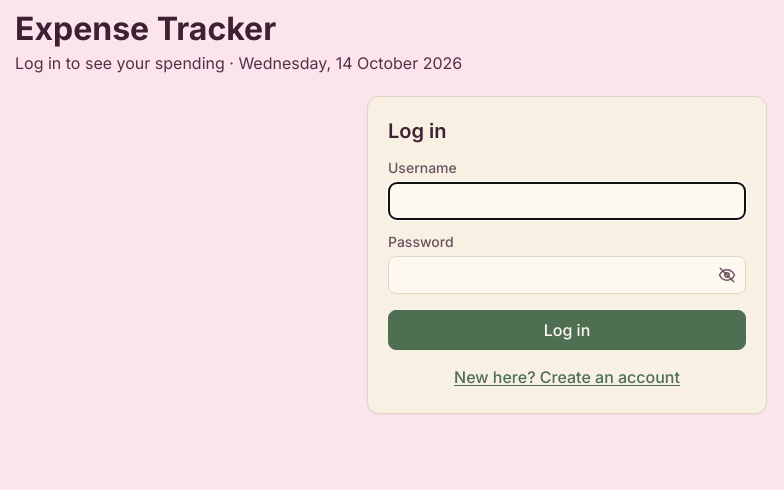
it: switching between Log in and Create account hides the password again, keeping it
Type "a good password" into the password field labelled "Password" at (567, 275), box [388, 256, 746, 294]
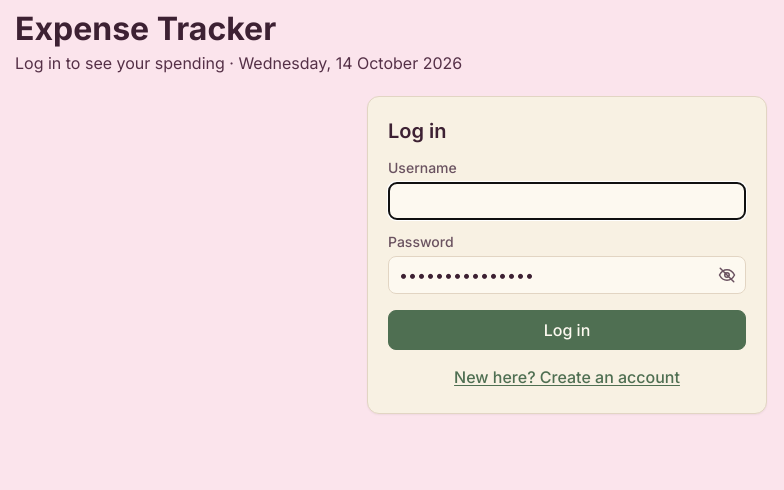
Click the button named "Show password" at (727, 275), box [711, 259, 743, 291]
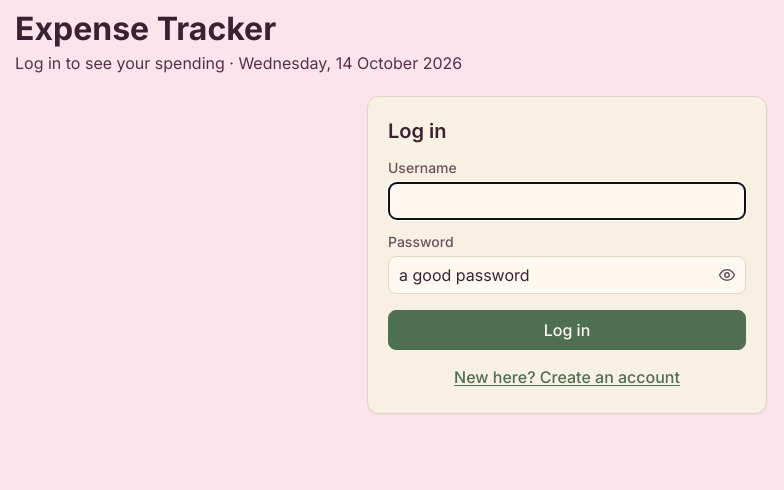
Click the button "New here? Create an account" at (567, 378), box [448, 362, 686, 393]
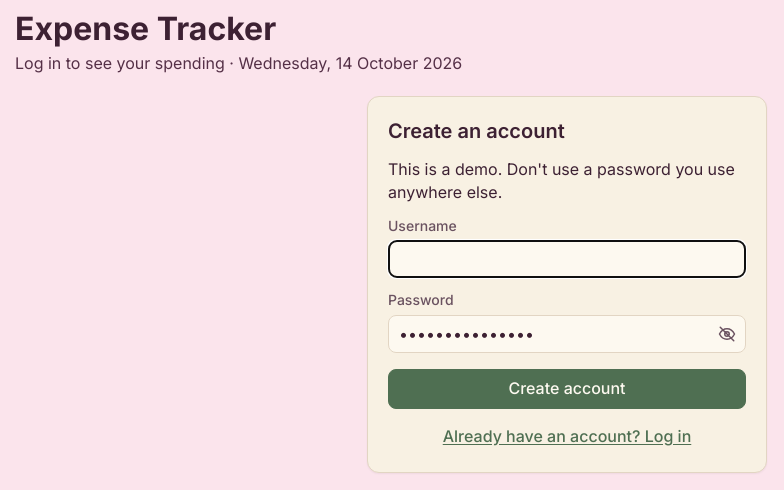
Expected: the password field labelled "Password" hides its text, [388, 314, 746, 352]
Click the button named "Show password" at (727, 334), box [711, 318, 743, 350]
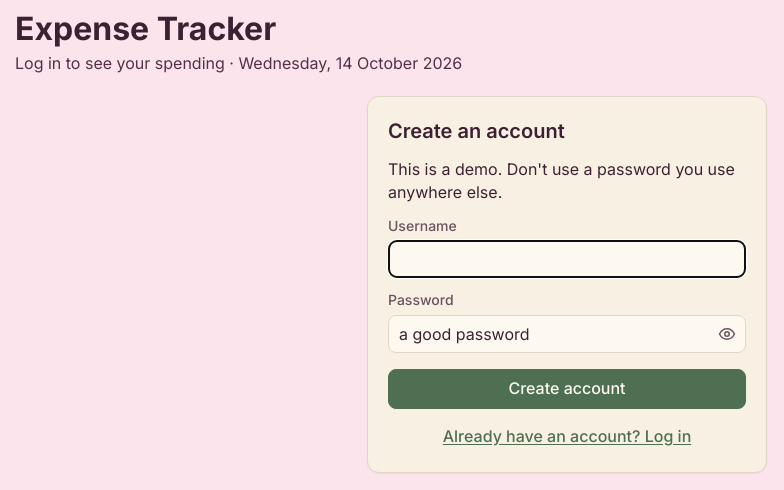
Click the button "Already have an account? Log in" at (567, 436), box [437, 420, 697, 452]
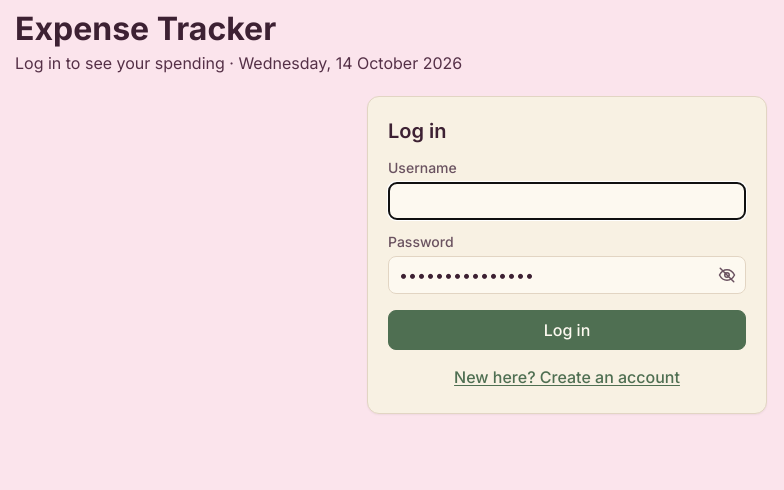
Expected: the password field labelled "Password" hides its text, [388, 256, 746, 294]
